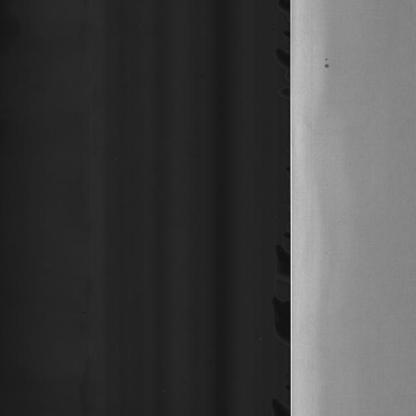oil_spot: (319, 50, 330, 81)
